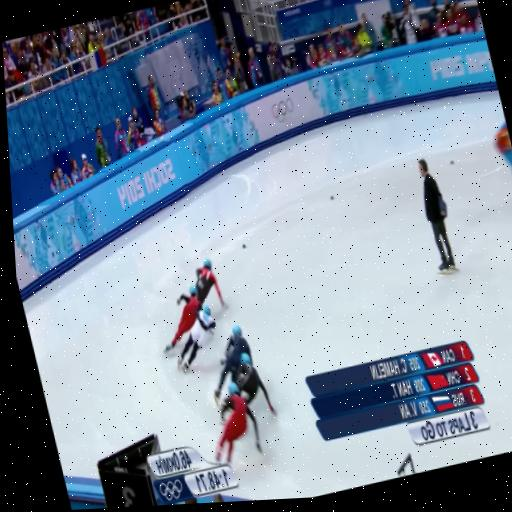Skater: (215, 383, 260, 463), (214, 326, 251, 404), (231, 353, 275, 415), (177, 305, 214, 372), (164, 286, 200, 352), (195, 258, 225, 306)
